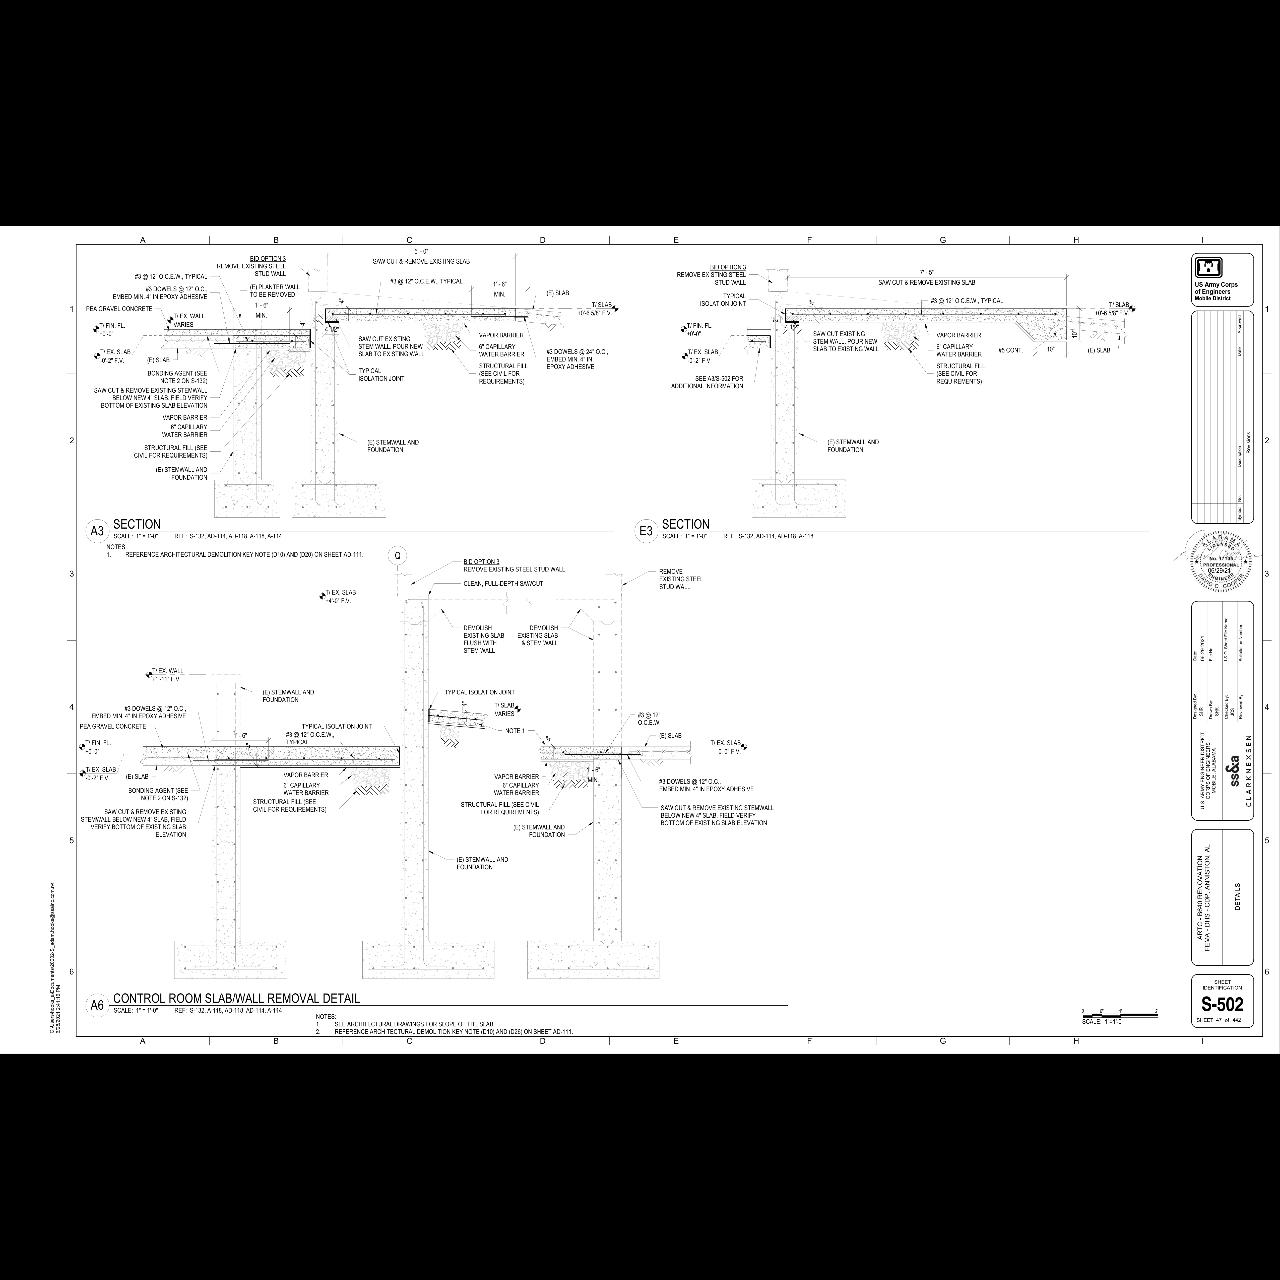title: (81, 990, 791, 1020), (630, 512, 1154, 546), (82, 514, 620, 546)
